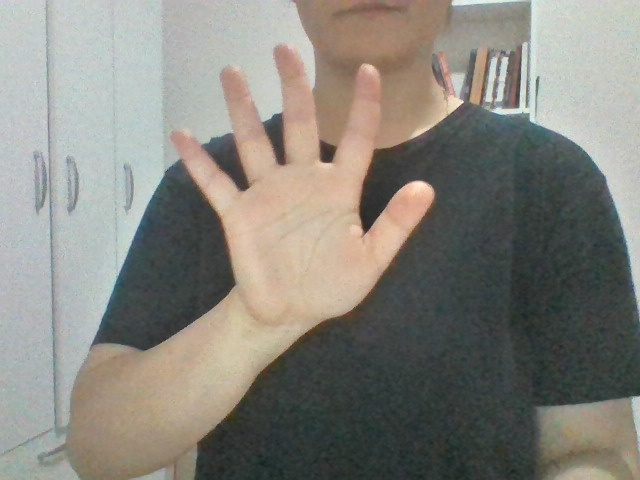Hello: (121, 34, 498, 352)
